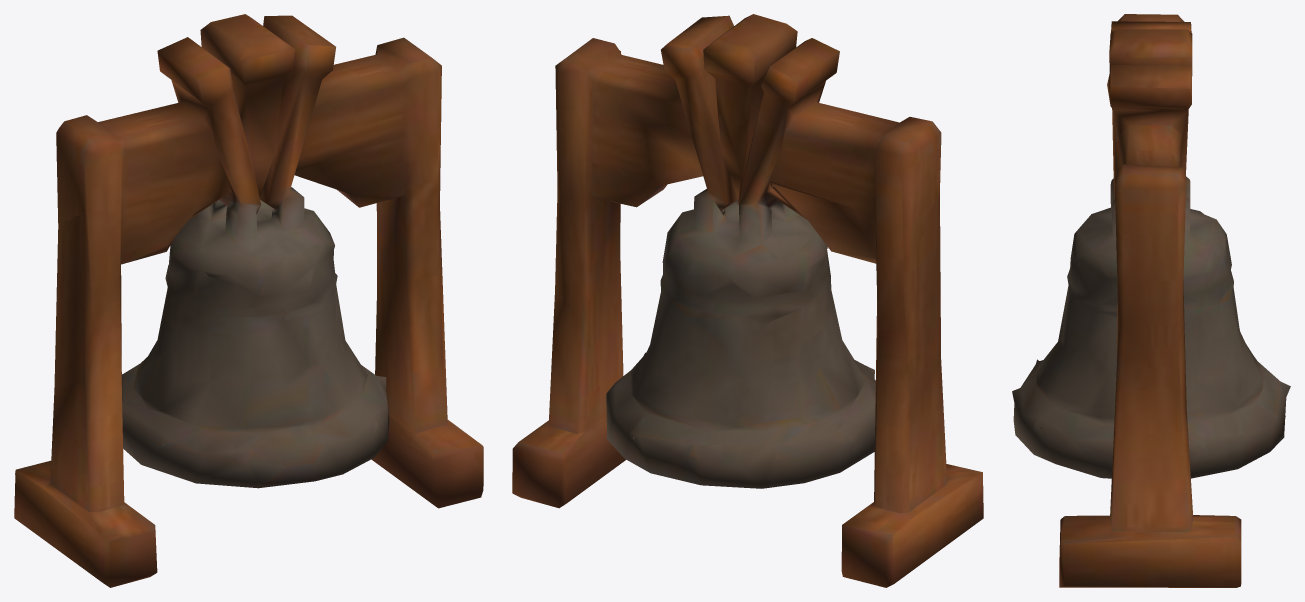
Rendered from sz-bell-frame.glb.
The picture shows the model from 3 angles, left to right: view 1: azimuth 30°, elevation 25°; view 2: azimuth 150°, elevation 25°; view 3: azimuth 270°, elevation 25°; orthographic projection. The views are drawn at different scales.
Parts seen in each view (by area): view 1: geometry_0; view 2: geometry_0; view 3: geometry_0.
Part boxes in pixels (box(x1,y1,x2,y2)): geometry_0: box(14, 14, 483, 587); geometry_0: box(512, 14, 983, 587); geometry_0: box(1012, 14, 1290, 587).
Bounding box in the file's own units: 0.8303 × 1 × 0.5444.
1 material, 1 textured.
